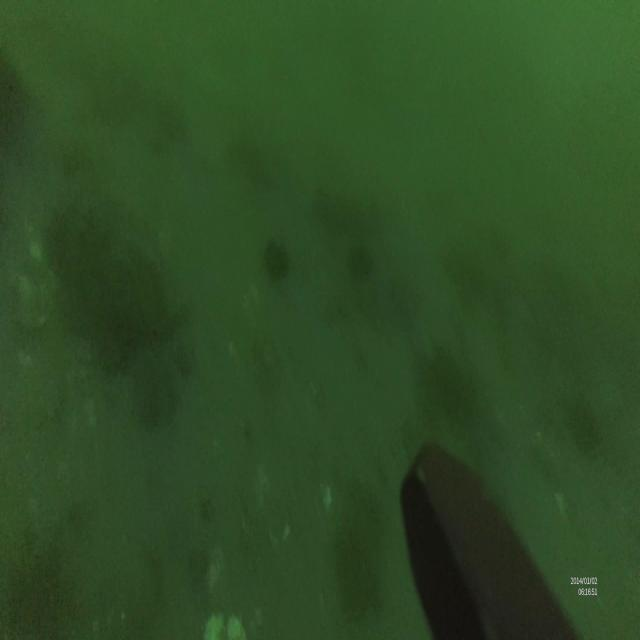echinus: (264, 236, 288, 280)
